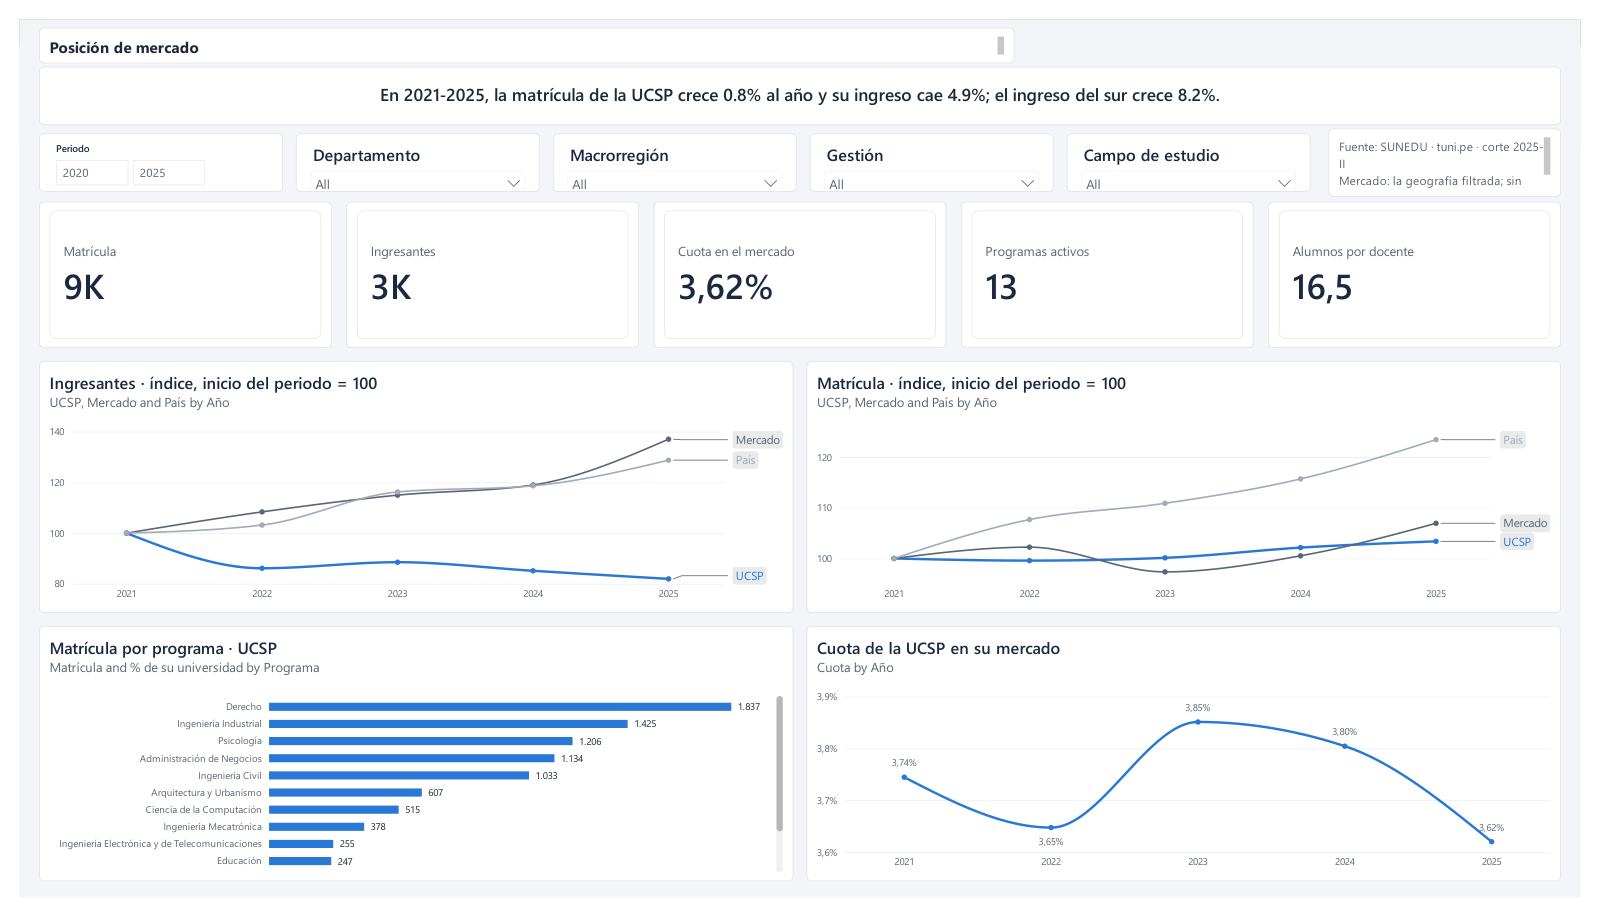

What the dashboard file says about the page in this screenshot:
{"tool":"powerbi","page":{"name":"Posición de mercado","canvas":[1920,1080],"ordinal":1},"visuals":[{"type":"textbox","box":[24,10,1200,44],"z":0},{"type":"card","fields":{"Values":["_Medidas.Titular Resumen"]},"box":[24,58,1872,72],"z":1000},{"type":"slicer","fields":{"Values":["dim_periodo.anio"]},"box":[24,140,300,72],"z":2000},{"type":"slicer","fields":{"Values":["dim_ubicacion.departamento"]},"box":[340,140,300,96.7],"z":3000},{"type":"slicer","fields":{"Values":["dim_ubicacion.macrorregion"]},"box":[656.7,140,300,96.7],"z":4000},{"type":"slicer","fields":{"Values":["dim_universidad.tipo_gestion"]},"box":[971.7,140,300,96.7],"z":5000},{"type":"slicer","fields":{"Values":["dim_programa.campo_estudio"]},"box":[1288.3,140,300,96.7],"z":6000},{"type":"textbox","box":[1610,134,286,84],"z":7000},{"type":"cardVisual","fields":{"Data":["_Medidas.Matriculados"],"ReferenceLabels":["_Medidas.Var. Matricula (%)","_Medidas.CAGR Matricula UCSP","_Medidas.CAGR Matricula Macrosur"]},"box":[23.3,255,360,148.3],"z":8000},{"type":"cardVisual","fields":{"Data":["_Medidas.Ingresantes Ultimo Anio"],"ReferenceLabels":["_Medidas.Var. Ingresantes (%)","_Medidas.CAGR Ingresantes UCSP","_Medidas.CAGR Ingresantes Macrosur"]},"box":[401.7,255,360,148.3],"z":9000},{"type":"cardVisual","fields":{"Data":["_Medidas.Cuota de Mercado en el Sur"],"ReferenceLabels":["_Medidas.Var. Cuota del Sur (pp)"]},"box":[780,255,360,148.3],"z":10000},{"type":"cardVisual","fields":{"Data":["_Medidas.Programas Activos"],"ReferenceLabels":["_Medidas.Var. Programas Activos"]},"box":[1158.3,255,360,148.3],"z":11000},{"type":"cardVisual","fields":{"Data":["_Medidas.Ratio Alumno Docente"],"ReferenceLabels":["_Medidas.Ratio Alumno Docente Macrosur","_Medidas.Ratio Alumno Docente Nacional"]},"box":[1536.7,255,360,148.3],"z":12000},{"type":"lineChart","title":"Ingresantes · índice, inicio del periodo = 100","fields":{"Category":["dim_periodo.anio"],"Y":["_Medidas.Indice Ingresantes UCSP","_Medidas.Indice Ingresantes Macrosur","_Medidas.Indice Ingresantes Nacional"]},"box":[24,420,928,310],"z":13000},{"type":"lineChart","title":"Matrícula · índice, inicio del periodo = 100","fields":{"Category":["dim_periodo.anio"],"Y":["_Medidas.Indice Matricula UCSP","_Medidas.Indice Matricula Macrosur","_Medidas.Indice Matricula Nacional"]},"box":[968,420,928,310],"z":14000},{"type":"clusteredBarChart","title":"Matrícula por programa · UCSP","fields":{"Category":["dim_programa.nombre_programa"],"Y":["_Medidas.Matriculados"]},"box":[24,746,928,314],"z":15000},{"type":"lineChart","title":"Cuota de la UCSP en su mercado","fields":{"Category":["dim_periodo.anio"],"Y":["_Medidas.Cuota de Mercado en el Sur"]},"box":[968,746,928,314],"z":16000}]}

Visuals, with their boxes in screenshot pixels (x1, y1, x2, y2), scaled from the page's 1920x1080 canvas onto the 1600x918 screenshot:
textbox: 20,8,1020,46
card - _Medidas.Titular Resumen: 20,49,1580,110
slicer - dim_periodo.anio: 20,119,270,180
slicer - dim_ubicacion.departamento: 283,119,533,201
slicer - dim_ubicacion.macrorregion: 547,119,797,201
slicer - dim_universidad.tipo_gestion: 810,119,1060,201
slicer - dim_programa.campo_estudio: 1074,119,1324,201
textbox: 1342,114,1580,185
cardVisual - _Medidas.Matriculados x _Medidas.Var. Matricula (%): 19,217,319,343
cardVisual - _Medidas.Ingresantes Ultimo Anio x _Medidas.Var. Ingresantes (%): 335,217,635,343
cardVisual - _Medidas.Cuota de Mercado en el Sur x _Medidas.Var. Cuota del Sur (pp): 650,217,950,343
cardVisual - _Medidas.Programas Activos x _Medidas.Var. Programas Activos: 965,217,1265,343
cardVisual - _Medidas.Ratio Alumno Docente x _Medidas.Ratio Alumno Docente Macrosur: 1281,217,1581,343
"Ingresantes · índice, inicio del periodo = 100" lineChart: 20,357,793,620
"Matrícula · índice, inicio del periodo = 100" lineChart: 807,357,1580,620
"Matrícula por programa · UCSP" clusteredBarChart: 20,634,793,901
"Cuota de la UCSP en su mercado" lineChart: 807,634,1580,901
